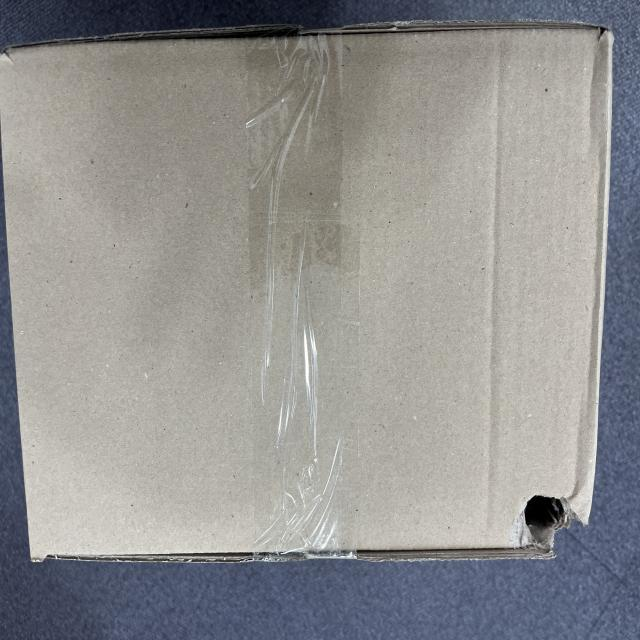hole: (514, 477, 590, 547)
